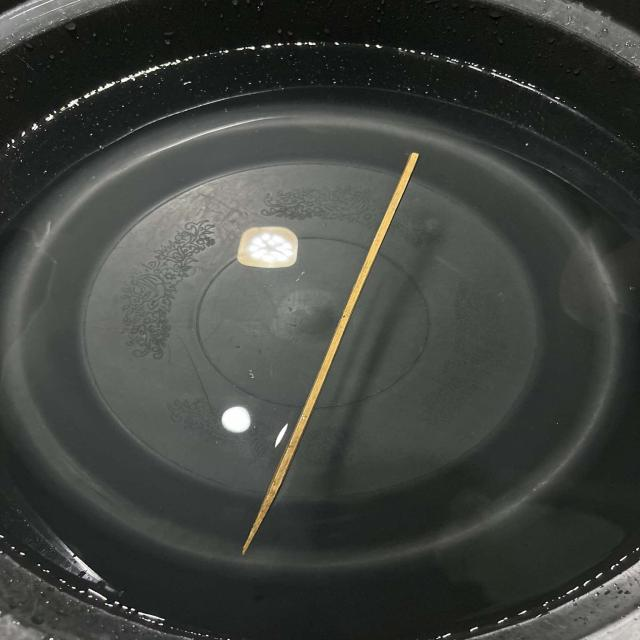Wood Stick: (207, 134, 425, 572)
